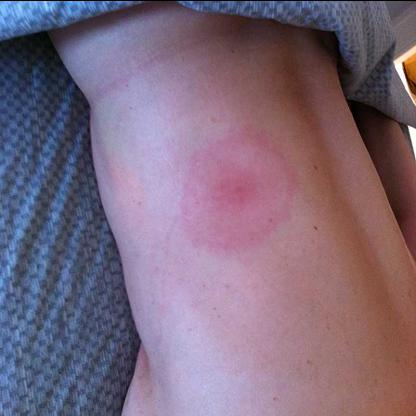Tick: (175, 118, 301, 258)
